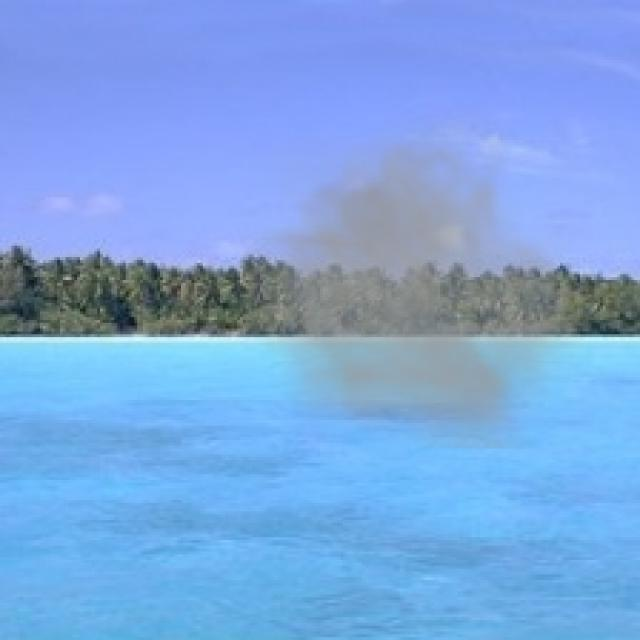Smoke: (225, 102, 598, 448)
